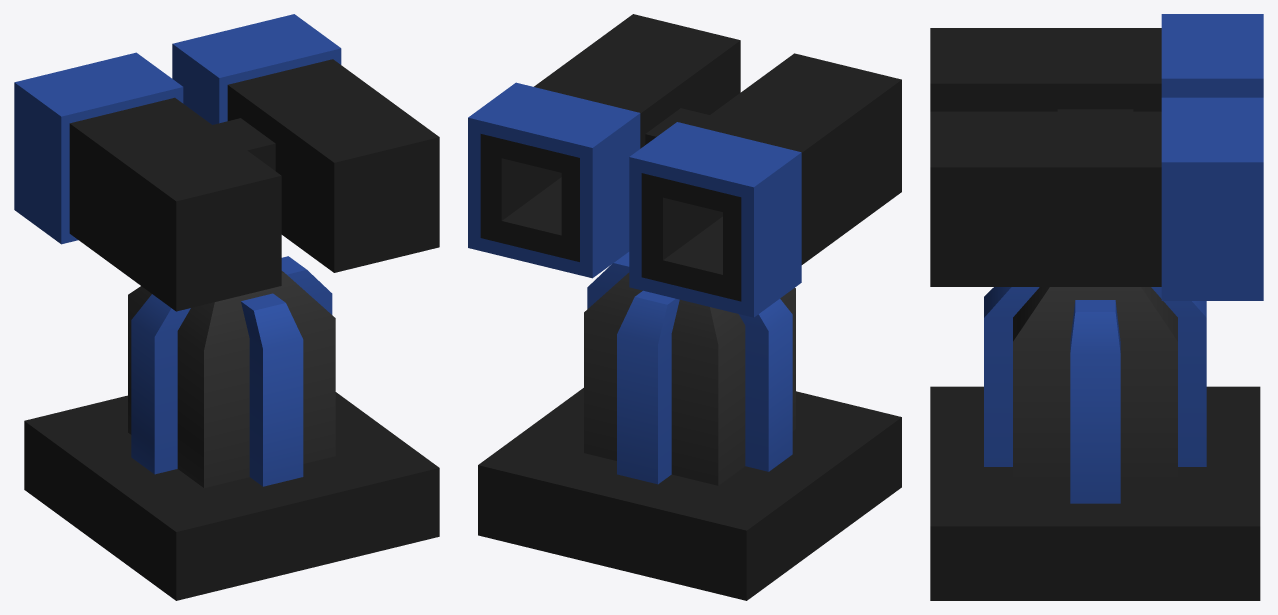
The model's file is RocketLauncher.dae.
The picture shows the model from 3 angles, left to right: view 1: azimuth 30°, elevation 25°; view 2: azimuth 150°, elevation 25°; view 3: azimuth 270°, elevation 25°; orthographic projection. The views are drawn at different scales.
Parts seen in each view (by area): view 1: Box, Box_4, Box_3, Box_1, Box_9, Box_6, Box_11, Box_7, Box_5; view 2: Box, Box_4, Box_3, Box_1, Box_9, Box_11, Box_6, Box_7, Box_5; view 3: Box, Box_3, Box_1, Box_11, Box_4, Box_6, Box_7, Box_9.
Part boxes in pixels (box(x1,y1,x2,y2)): Box: box(24, 392, 439, 600); Box_4: box(69, 97, 281, 311); Box_3: box(227, 59, 439, 272); Box_1: box(128, 271, 335, 487); Box_9: box(14, 52, 183, 244); Box_6: box(241, 293, 303, 486); Box_11: box(172, 14, 341, 124); Box_7: box(131, 256, 332, 474); Box_5: box(213, 118, 275, 170); Box: box(478, 388, 901, 600); Box_4: box(641, 53, 901, 301); Box_3: box(480, 14, 740, 261); Box_1: box(584, 272, 795, 485); Box_9: box(629, 122, 801, 317); Box_11: box(468, 82, 640, 278); Box_6: box(617, 290, 679, 484); Box_7: box(587, 252, 792, 471); Box_5: box(645, 108, 709, 144); Box: box(930, 386, 1260, 600); Box_3: box(930, 111, 1161, 286); Box_1: box(1013, 287, 1177, 491); Box_11: box(1161, 97, 1263, 300); Box_4: box(930, 28, 1161, 111); Box_6: box(984, 287, 1206, 466); Box_7: box(1070, 300, 1120, 503); Box_9: box(1161, 14, 1263, 97).
Bounding box in the file's own units: 1.06 × 1.48 × 1.01.
